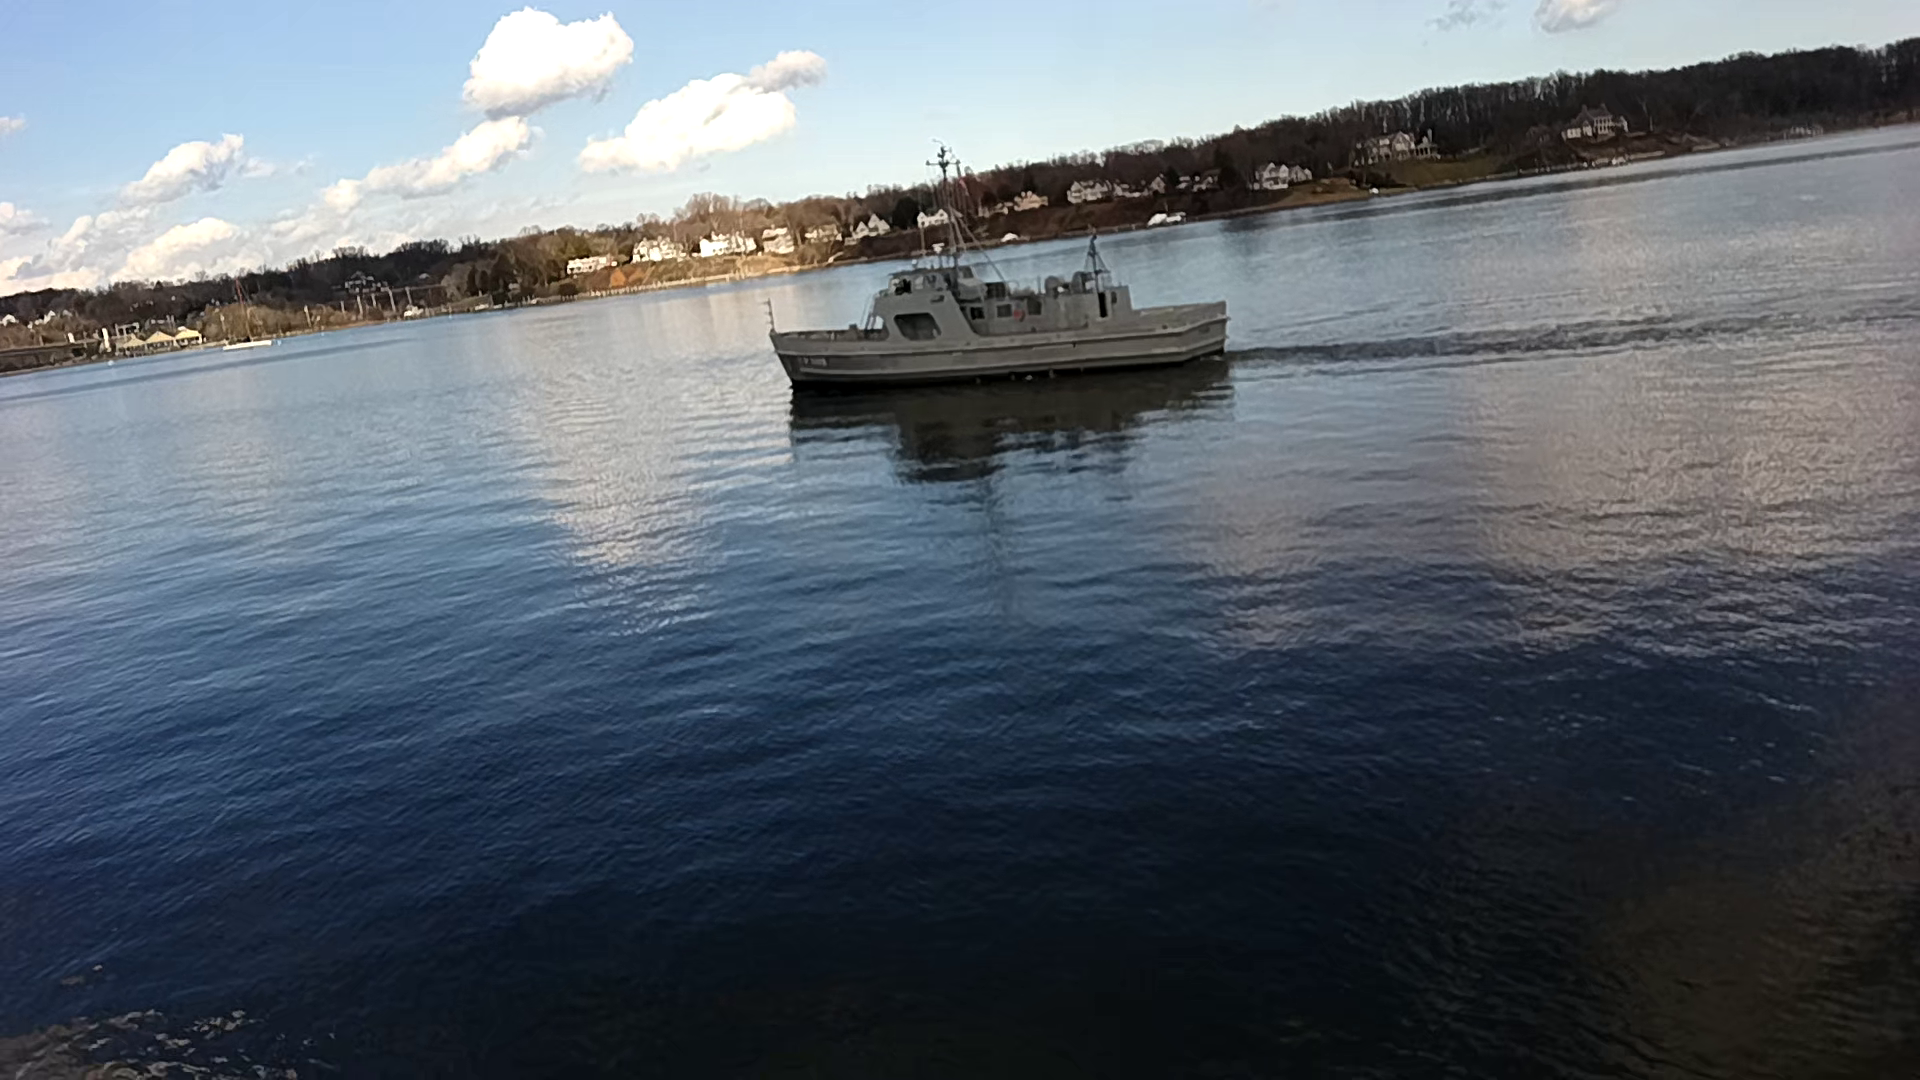YP689: (770, 145, 1230, 390)
